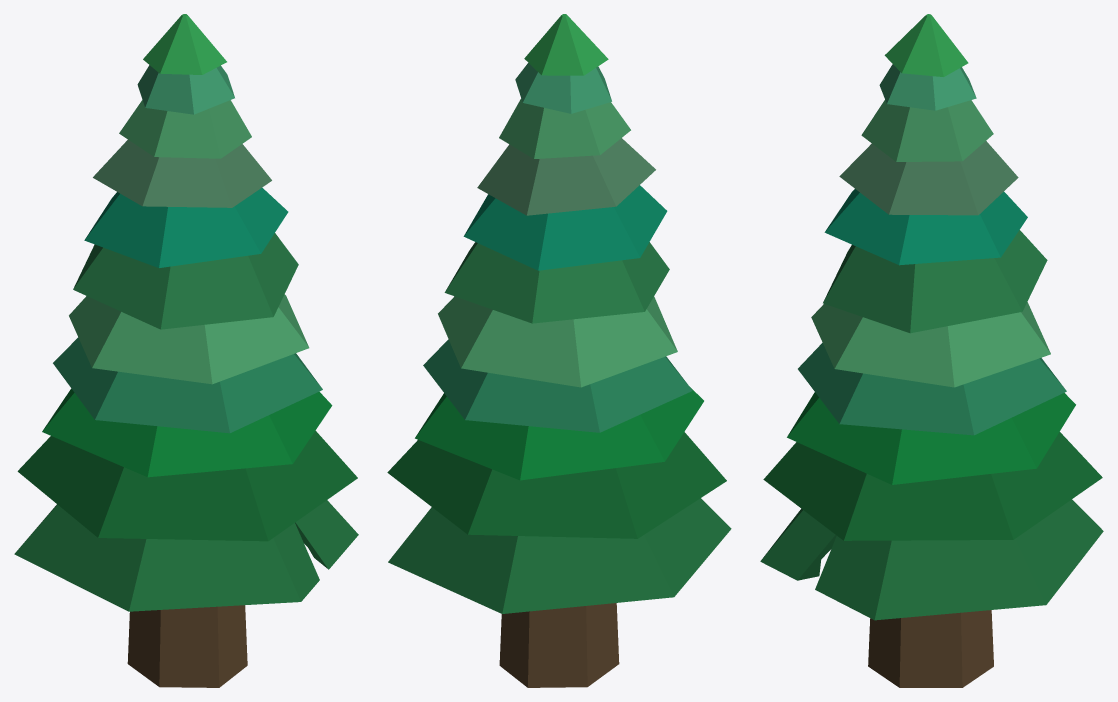
Rendered from Tree #4 PineTree.fbx.
3 views of the same model, side by side, from view 1: azimuth 30°, elevation 25°; view 2: azimuth 150°, elevation 25°; view 3: azimuth 270°, elevation 25° (orthographic).
Visible parts, largest first — view 1: Cylinder.005; view 2: Cylinder.005; view 3: Cylinder.005.
Part boxes in pixels (x1,y1,x2,y2): Cylinder.005: (14,14,358,687); Cylinder.005: (387,14,731,687); Cylinder.005: (760,14,1103,687).
Bounding box in the file's own units: 419 × 908 × 435.
